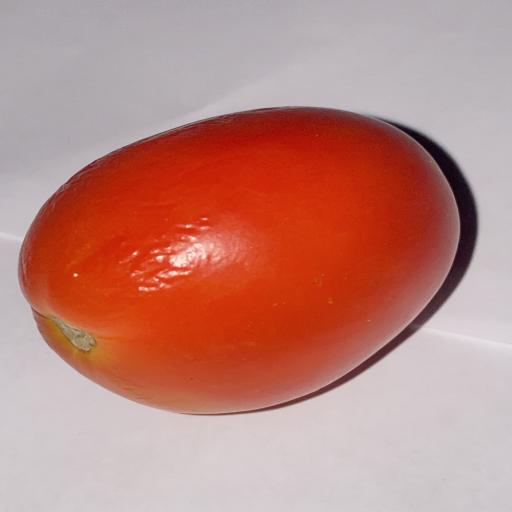ripe: (19, 107, 459, 413)
